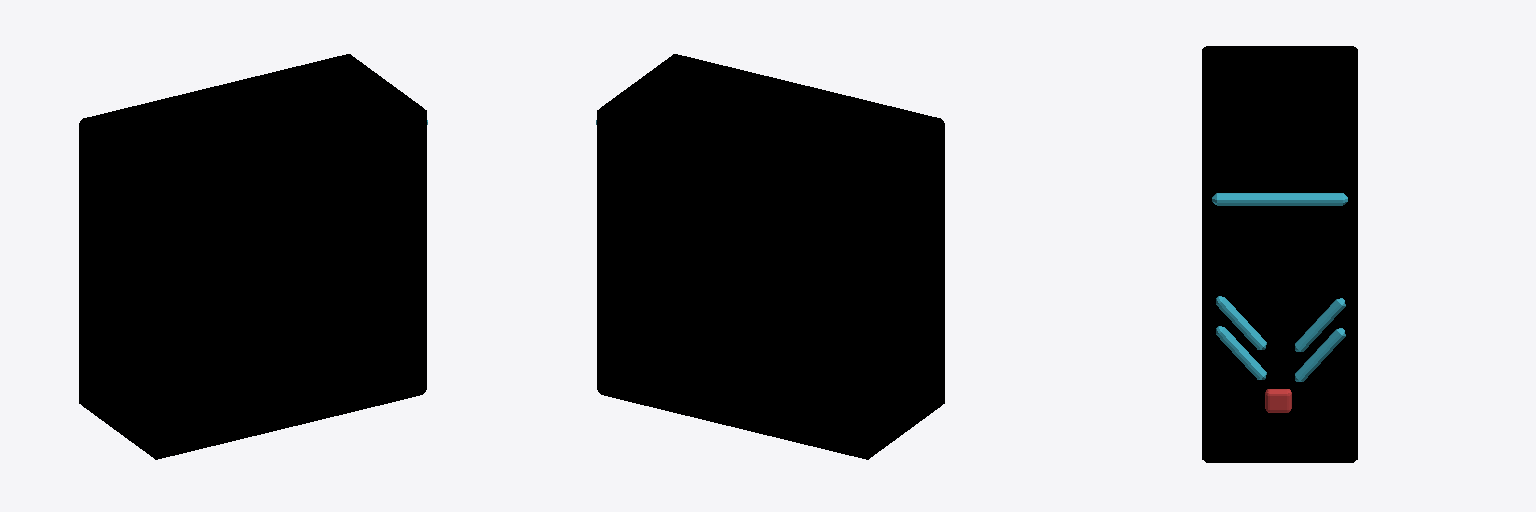
The model's file is computer.obj.
The picture shows the model from 3 angles: view 1: azimuth 30°, elevation 25°; view 2: azimuth 150°, elevation 25°; view 3: azimuth 270°, elevation 25°; orthographic projection.
Visible parts, largest first — view 1: Cube; view 2: Cube; view 3: Cube, Cube.1, Cube.6, Cube.4, Cube.5, Cube.3, Cube.2.
Part boxes in pixels (left/top/right/bottom): Cube: left=79, top=54, right=426, bottom=459; Cube: left=597, top=54, right=944, bottom=459; Cube: left=1202, top=46, right=1357, bottom=462; Cube.1: left=1212, top=193, right=1347, bottom=205; Cube.6: left=1295, top=298, right=1345, bottom=351; Cube.4: left=1295, top=328, right=1345, bottom=381; Cube.5: left=1216, top=296, right=1266, bottom=349; Cube.3: left=1216, top=326, right=1266, bottom=379; Cube.2: left=1265, top=389, right=1291, bottom=412.
Size of the model in its own units: 205 by 200 by 98.5.